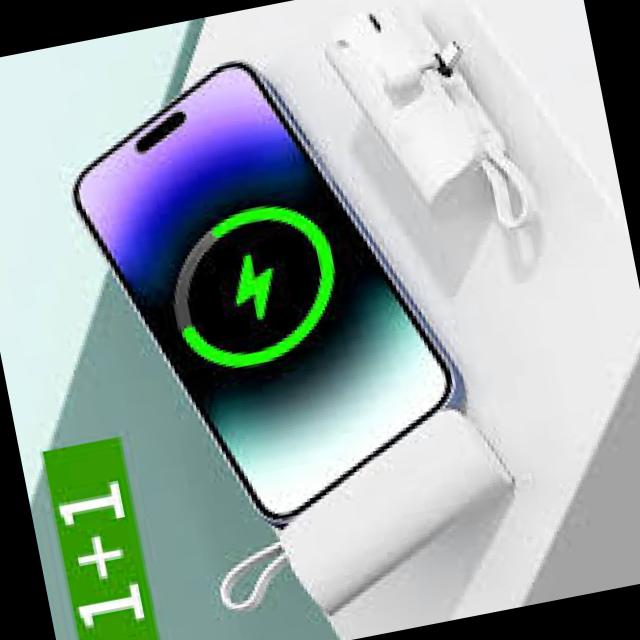power_bank: (259, 394, 537, 620), (307, 0, 516, 225)
